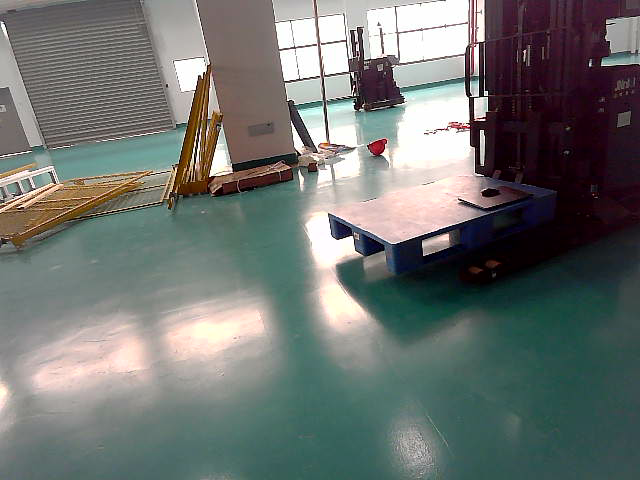block: (385, 242, 396, 279), (352, 225, 364, 257), (328, 213, 338, 240)
front: (326, 213, 395, 278)
hole pallet: (364, 236, 386, 270), (336, 221, 354, 249)
